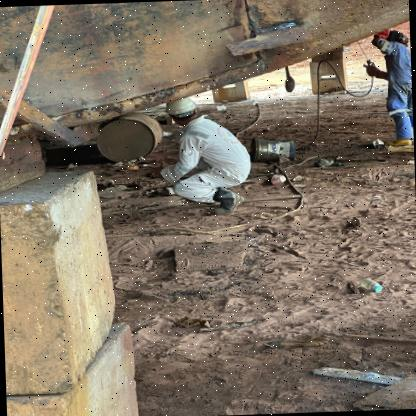bota: (207, 188, 246, 214), (386, 135, 414, 148)
